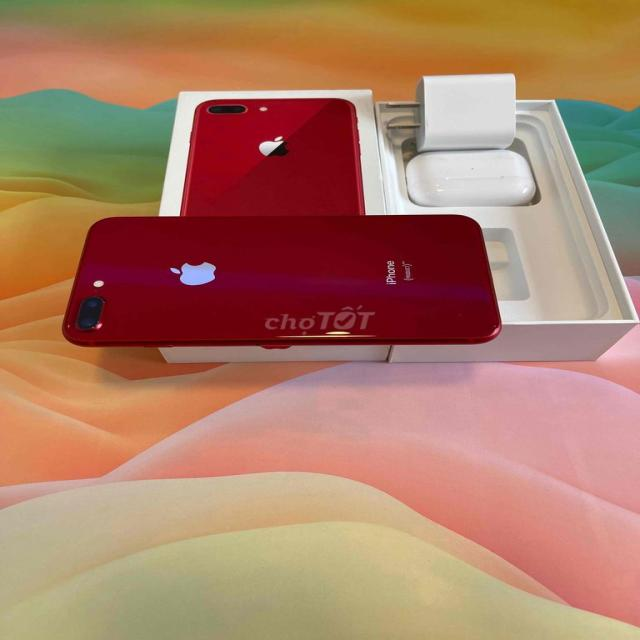gen_7_8: (59, 214, 504, 347)
screen_defect: (274, 325, 384, 340)
